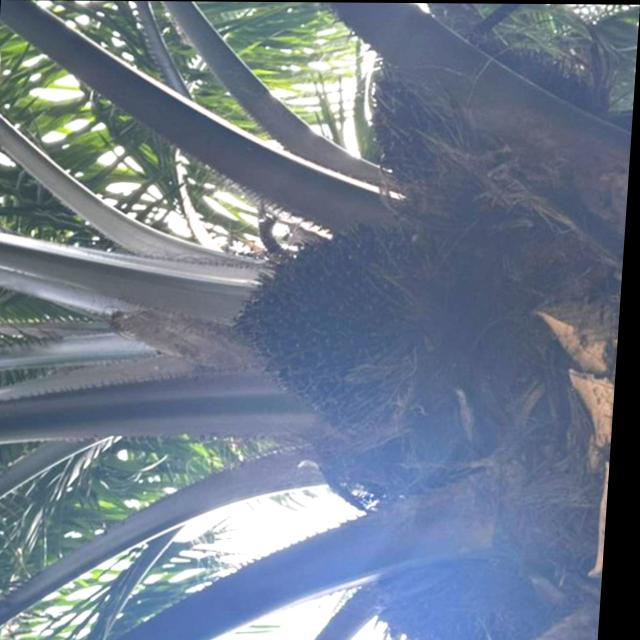unripe: (225, 214, 434, 437)
